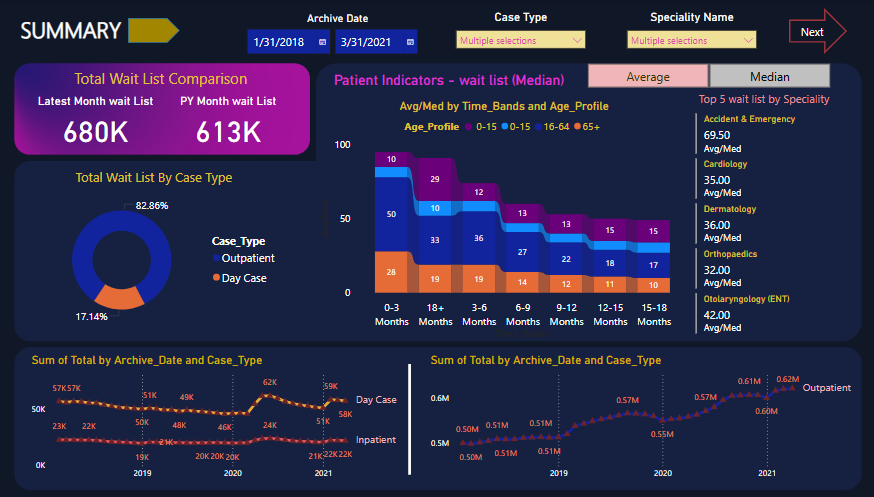

Layout of this report page (visuals, bound fields, positions):
{"tool":"powerbi","page":{"name":"Summary","canvas":[1280,720],"ordinal":0},"visuals":[{"type":"card","title":"Latest Month wait List","fields":{"Values":["Measure_tbl.CY latest wait list"]},"box":[49,138,192,82],"z":0},{"type":"card","title":"PY Month wait List","fields":{"Values":["Measure_tbl.PY latest month wait list"]},"box":[240,138,194,82],"z":1000},{"type":"slicer","fields":{"Values":["Calculation method.Column1"]},"box":[832,87,400,48],"z":2000},{"type":"donutChart","fields":{"Y":["Measure_tbl.Avg/Med"],"Category":["All_data_table.Case_Type"]},"box":[48,272,368,208],"z":3000},{"type":"columnChart","fields":{"Y":["Measure_tbl.Avg/Med"],"Category":["All_data_table.Time_Bands"],"Series":["All_data_table.Age_Profile"]},"box":[464,144,544,352],"z":4000},{"type":"multiRowCard","fields":{"Values":["All_data_table.Specialty_Name","Measure_tbl.Avg/Med"]},"box":[1008,160,208,336],"z":5000},{"type":"card","fields":{"Values":["Measure_tbl.NodataLeft"]},"box":[192.3,571.1,208.2,95.4],"z":6000},{"type":"lineChart","fields":{"Y":["Sum(All_data_table.Total)"],"Series":["All_data_table.Case_Type"],"Category":["All_data_table.Archive_Date"]},"box":[48,512,544,192],"z":7000},{"type":"card","fields":{"Values":["Measure_tbl.NodataRight"]},"box":[814,571.1,208.2,95.4],"z":7500},{"type":"lineChart","fields":{"Y":["Sum(All_data_table.Total)"],"Series":["All_data_table.Case_Type"],"Category":["All_data_table.Archive_Date"]},"box":[624,512,624,192],"z":8000},{"type":"slicer","title":"Archive Date","fields":{"Values":["All_data_table.Archive_Date"]},"box":[352,16,288,80],"z":9000},{"type":"slicer","title":"Case Type","fields":{"Values":["All_data_table.Case_Type"]},"box":[656.4,15.9,208.2,63.6],"z":10000},{"type":"slicer","title":"Speciality Name","fields":{"Values":["All_data_table.Specialty_Name"]},"box":[903.6,15.9,208.2,63.6],"z":11000},{"type":"textbox","box":[32,16,176,64],"z":12000},{"type":"textbox","box":[96,96,288,48],"z":13000},{"type":"textbox","box":[112,240,256,48],"z":14000},{"type":"textbox","box":[992,128,240,32],"z":15000},{"type":"shape","box":[576,528,48,160],"z":16000},{"type":"shape","box":[192.3,27.5,75.2,36.1],"z":17000},{"type":"card","fields":{"Values":["Measure_tbl.Dynamic Tile"]},"box":[480,96,352,44],"z":18000},{"type":"shape","box":[1148,13,83.9,66.5],"z":18001}]}

Visuals, with their boxes in screenshot pixels (x1, y1, x2, y2), scaled from the page's 1280x720 canvas onto the 874x497 screenshot:
"Latest Month wait List" card: Rect(33, 95, 165, 152)
"PY Month wait List" card: Rect(164, 95, 296, 152)
slicer - Calculation method.Column1: Rect(568, 60, 841, 93)
donutChart - Measure_tbl.Avg/Med x All_data_table.Case_Type: Rect(33, 188, 284, 331)
columnChart - Measure_tbl.Avg/Med x All_data_table.Time_Bands: Rect(317, 99, 688, 342)
multiRowCard - All_data_table.Specialty_Name x Measure_tbl.Avg/Med: Rect(688, 110, 830, 342)
card - Measure_tbl.NodataLeft: Rect(131, 394, 273, 460)
lineChart - Sum(All_data_table.Total) x All_data_table.Case_Type: Rect(33, 353, 404, 486)
card - Measure_tbl.NodataRight: Rect(556, 394, 698, 460)
lineChart - Sum(All_data_table.Total) x All_data_table.Case_Type: Rect(426, 353, 852, 486)
"Archive Date" slicer: Rect(240, 11, 437, 66)
"Case Type" slicer: Rect(448, 11, 590, 55)
"Speciality Name" slicer: Rect(617, 11, 759, 55)
textbox: Rect(22, 11, 142, 55)
textbox: Rect(66, 66, 262, 99)
textbox: Rect(76, 166, 251, 199)
textbox: Rect(677, 88, 841, 110)
shape: Rect(393, 364, 426, 475)
shape: Rect(131, 19, 183, 44)
card - Measure_tbl.Dynamic Tile: Rect(328, 66, 568, 97)
shape: Rect(784, 9, 841, 55)
